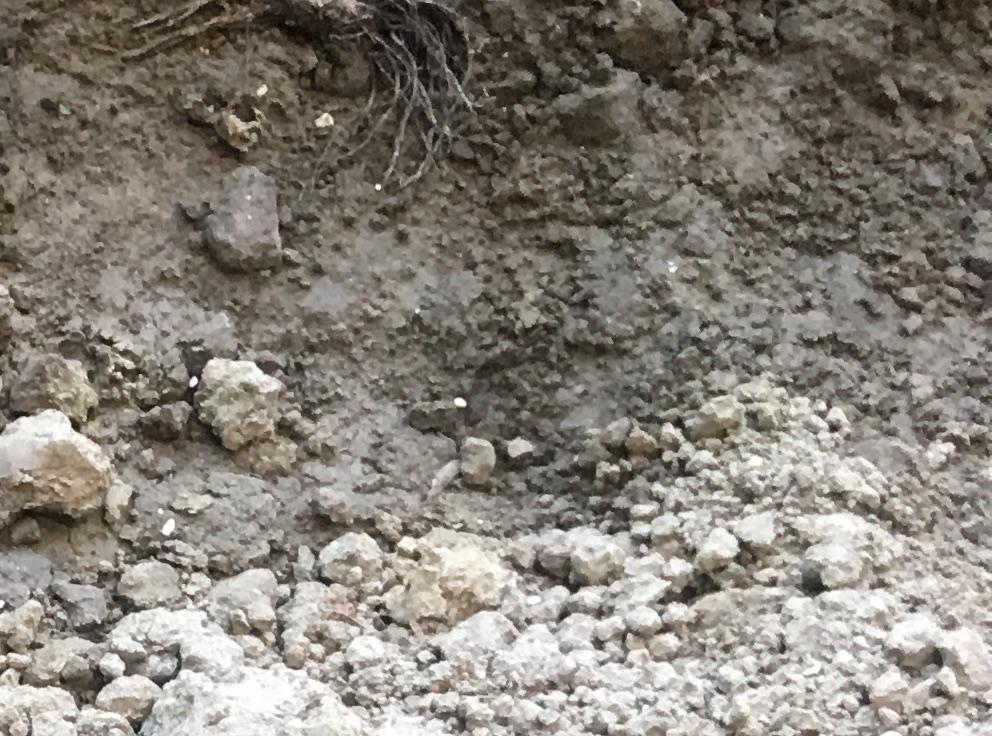block: (1, 414, 121, 530), (184, 354, 288, 452), (199, 172, 292, 268)
